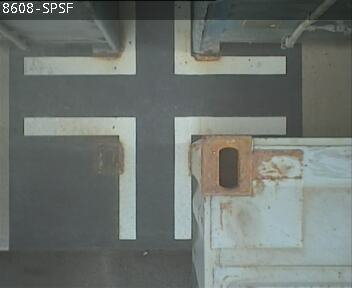groundmarker_1: (23, 116, 284, 238), (24, 1, 286, 74)
